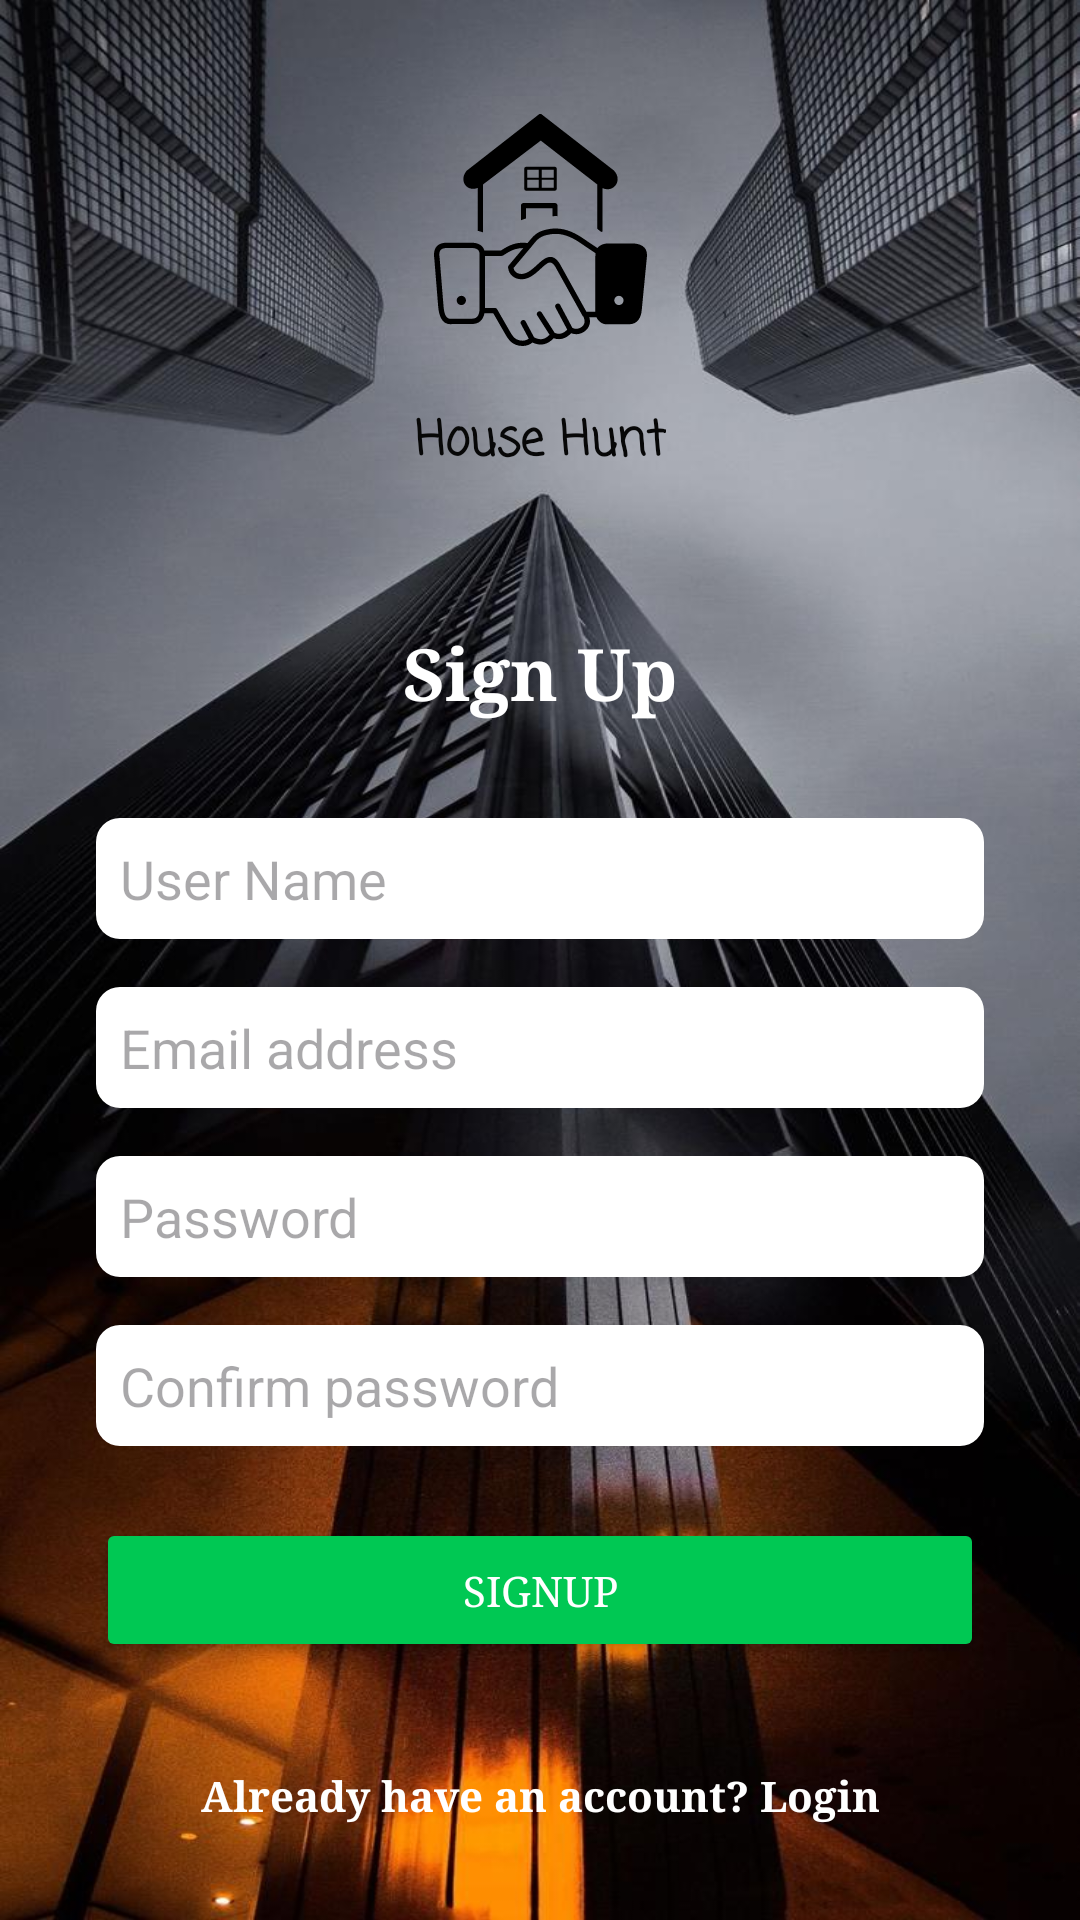

Screen size 1080px x 1920px. Icon name, then its box in pixels as (x1, y1, x2, y2):
dealericon: (434, 113, 647, 347)
